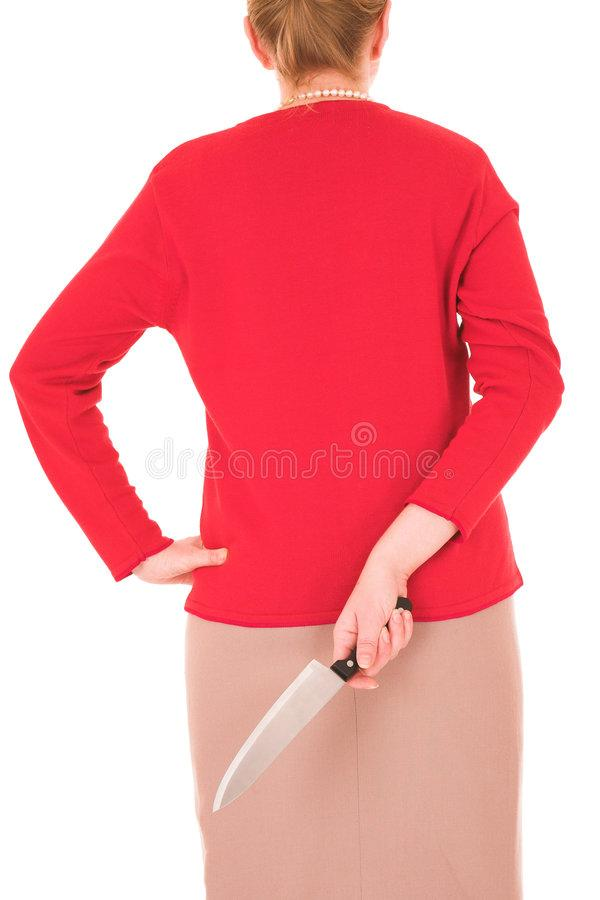weapon: (208, 592, 418, 820)
